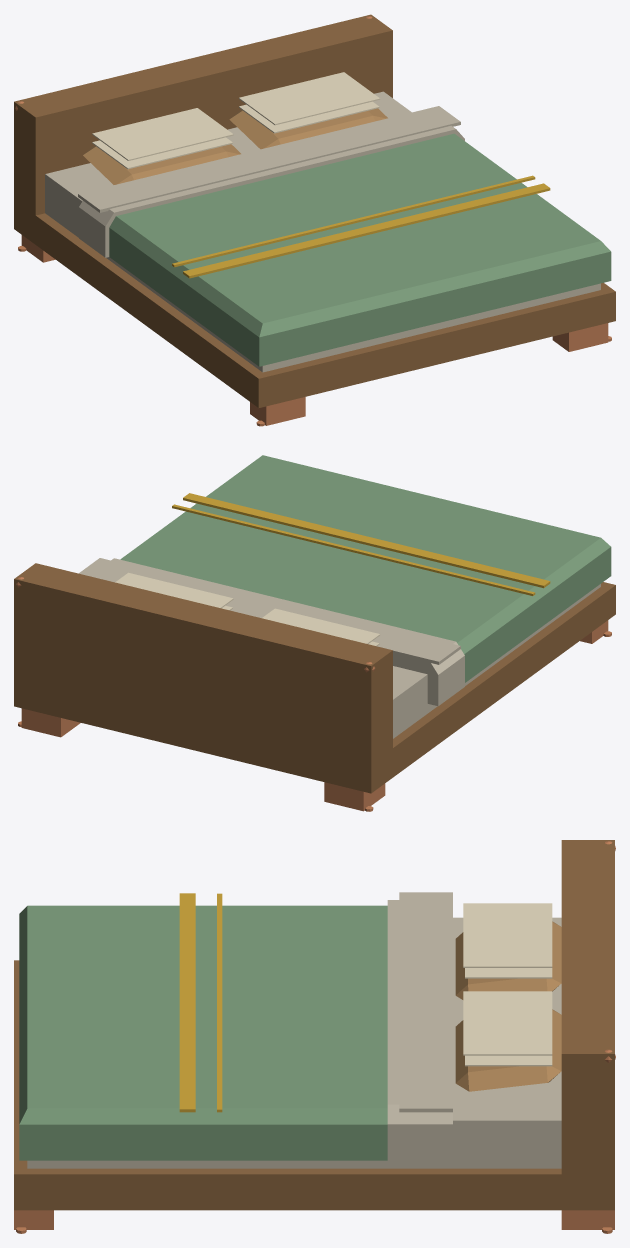
The model's file is bedDouble.glb.
3 views of the same model, one above another, from view 1: azimuth 30°, elevation 25°; view 2: azimuth 150°, elevation 25°; view 3: azimuth 270°, elevation 25° (orthographic). The views are drawn at different scales.
Parts seen in each view (by area): view 1: cover, bedDouble(Clone), pillowRight, pillowLeft; view 2: bedDouble(Clone), cover, pillowLeft, pillowRight; view 3: cover, bedDouble(Clone), pillowRight, pillowLeft.
Part boxes in pixels (x1,y1,x2,y2): cover: [78, 106, 611, 366]; bedDouble(Clone): [14, 14, 615, 426]; pillowRight: [229, 72, 387, 149]; pillowLeft: [83, 108, 240, 184]; bedDouble(Clone): [14, 563, 615, 811]; cover: [79, 455, 611, 706]; pillowLeft: [262, 608, 380, 646]; pillowRight: [115, 572, 233, 610]; cover: [19, 892, 452, 1162]; bedDouble(Clone): [14, 840, 615, 1233]; pillowRight: [455, 991, 561, 1091]; pillowLeft: [455, 903, 561, 999].
Size of the model in its own units: 0.956 by 0.375 by 1.12.
